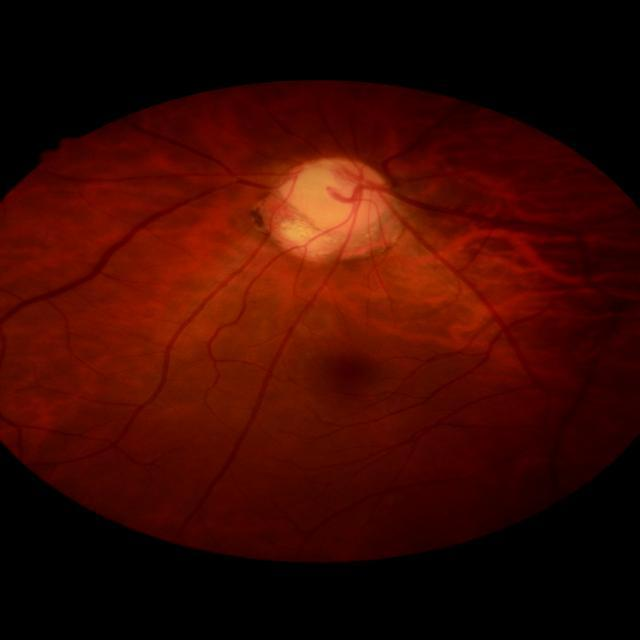cup: (282, 164, 376, 226)
disk: (276, 154, 392, 230)
